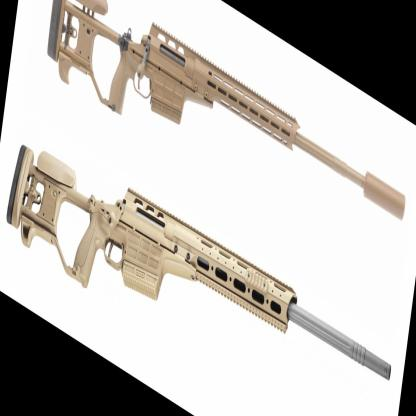rifle: (3, 110, 377, 416), (37, 0, 410, 297)
